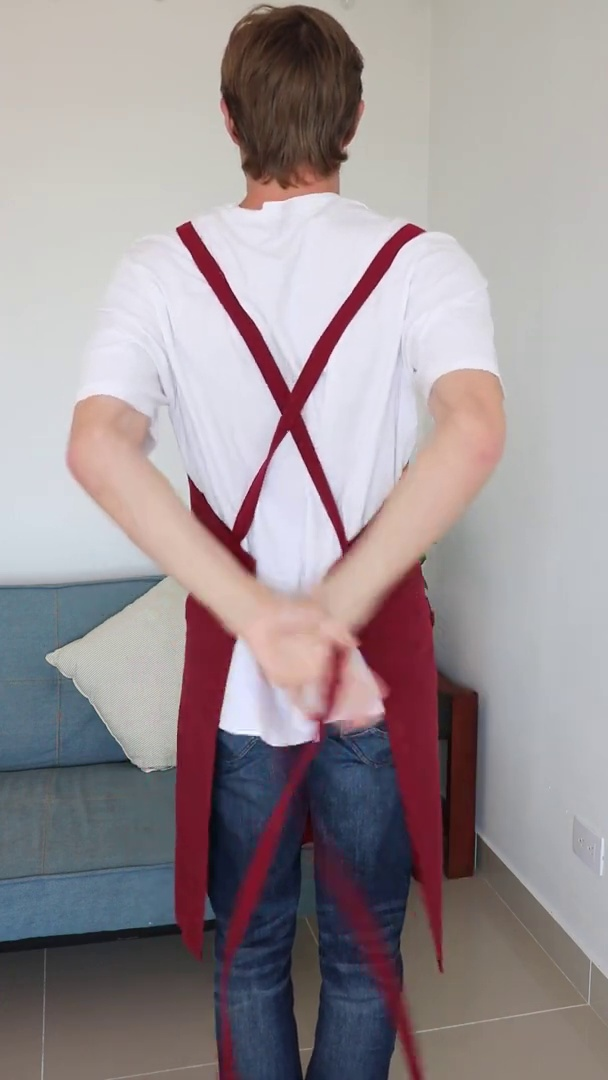Apron: (175, 210, 423, 677)
No_Glove: (252, 613, 371, 732)
No_Hairnet: (215, 5, 366, 183)
